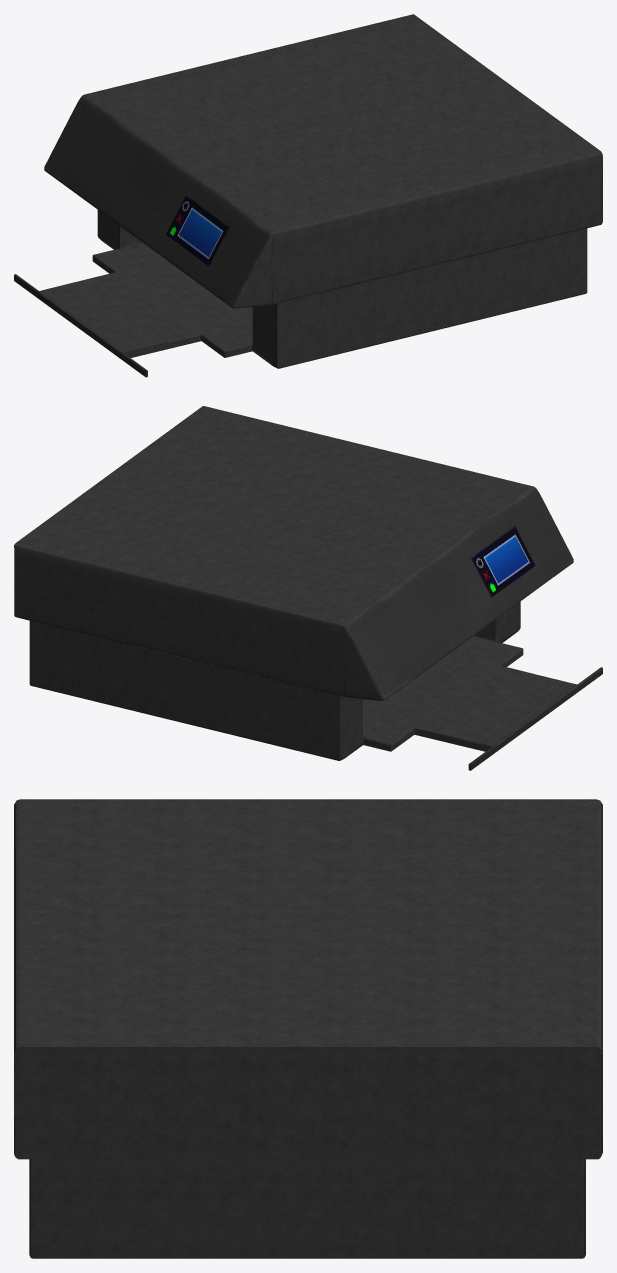
The model's file is Printer.fbx.
The picture shows the model from 3 angles, top to bottom: view 1: azimuth 30°, elevation 25°; view 2: azimuth 150°, elevation 25°; view 3: azimuth 270°, elevation 25°; orthographic projection. The views are drawn at different scales.
Visible parts, largest first — view 1: Printer; view 2: Printer; view 3: Printer.
Boxes of the visible parts, box(x1,y1,x2,y2) form: Printer: box(14, 14, 602, 377); Printer: box(14, 406, 602, 770); Printer: box(14, 799, 602, 1258).
Bounding box in the file's own units: 118 × 37.73 × 91.37.
